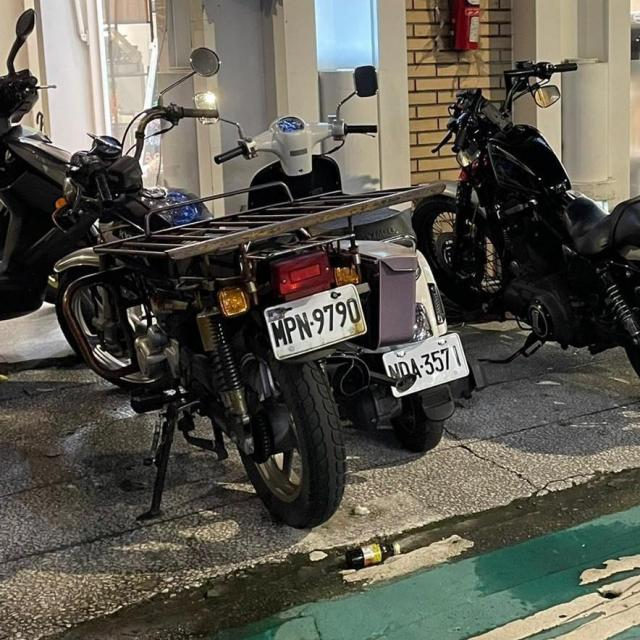W: (258, 281, 378, 363), (378, 329, 486, 399)
